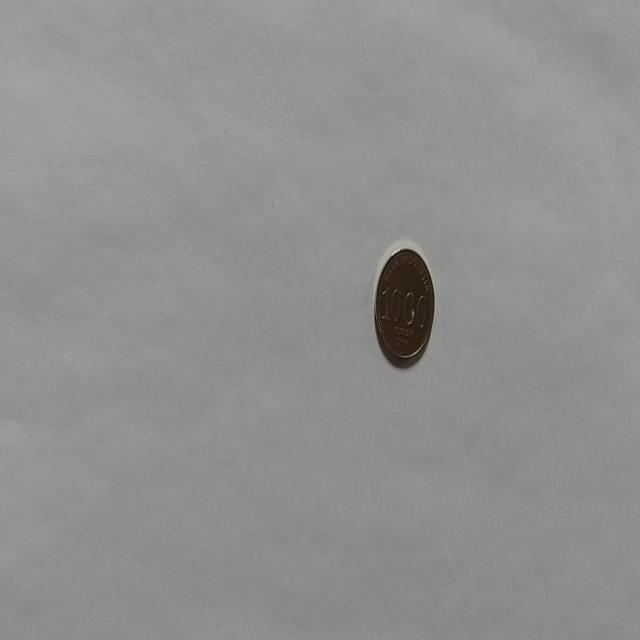seribu rupiah koin: (372, 244, 436, 368)
